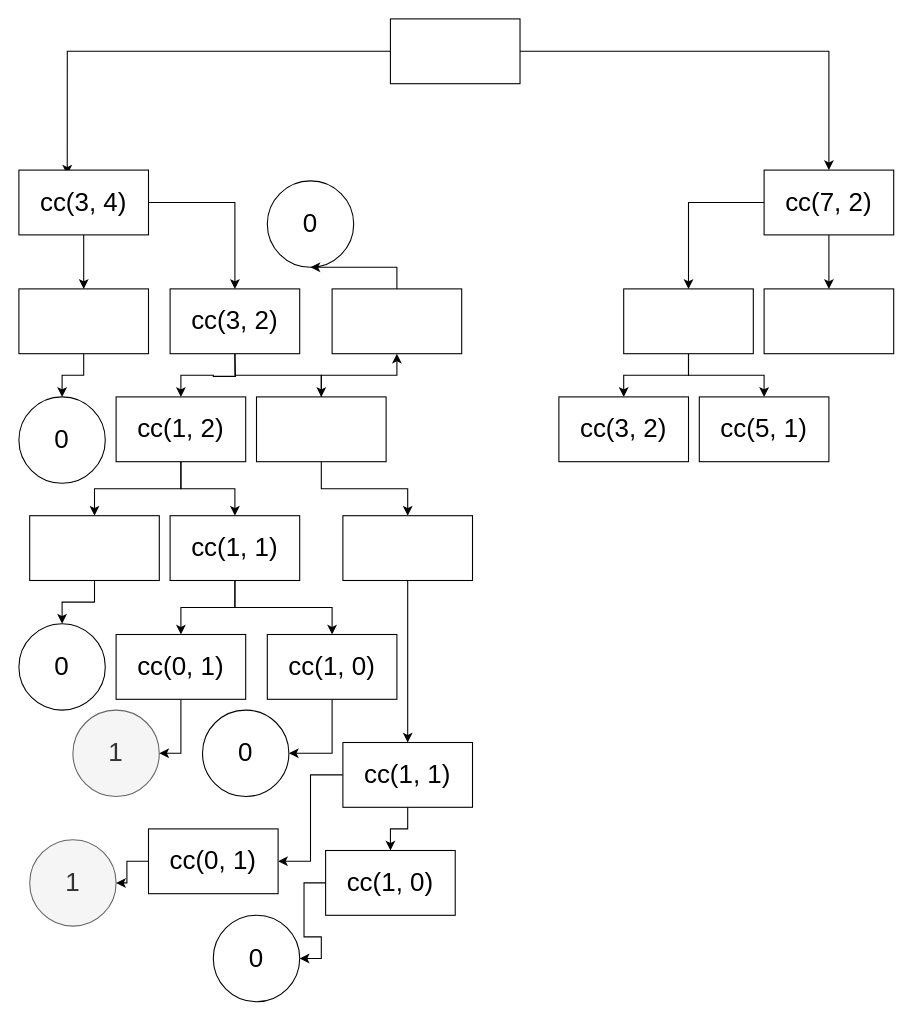
The diagram is 913 pixels wide and 1021 high, and some of its shapes have lost their labels. The shapes that lost their labels are listed below. From the top down, each one's box as (x1, y1, x2, y2) in pixels, then its label:
(389, 18, 520, 84): cc(7, 4)
(18, 288, 148, 354): cc(-1, 4)
(331, 288, 462, 354): cc(3, 0)
(623, 288, 753, 354): cc(5, 2)
(763, 288, 894, 354): cc(7, 1)
(255, 396, 386, 462): cc(3, 1)
(29, 515, 159, 580): cc(-1, 2)
(342, 515, 473, 580): cc(2, 1)
